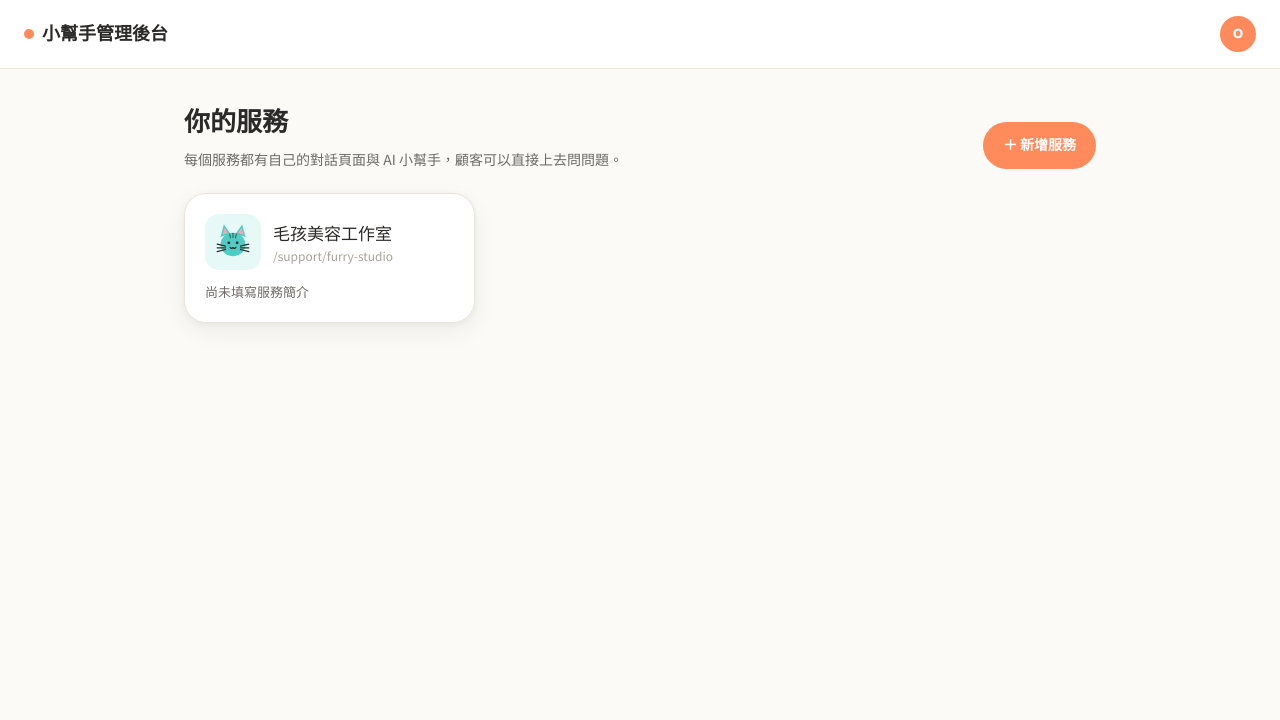
it: console: conversation history tab › shows an empty state when the business has no conversations yet
Click the text "毛孩美容工作室" at x=333, y=232, box [273,220,393,245]
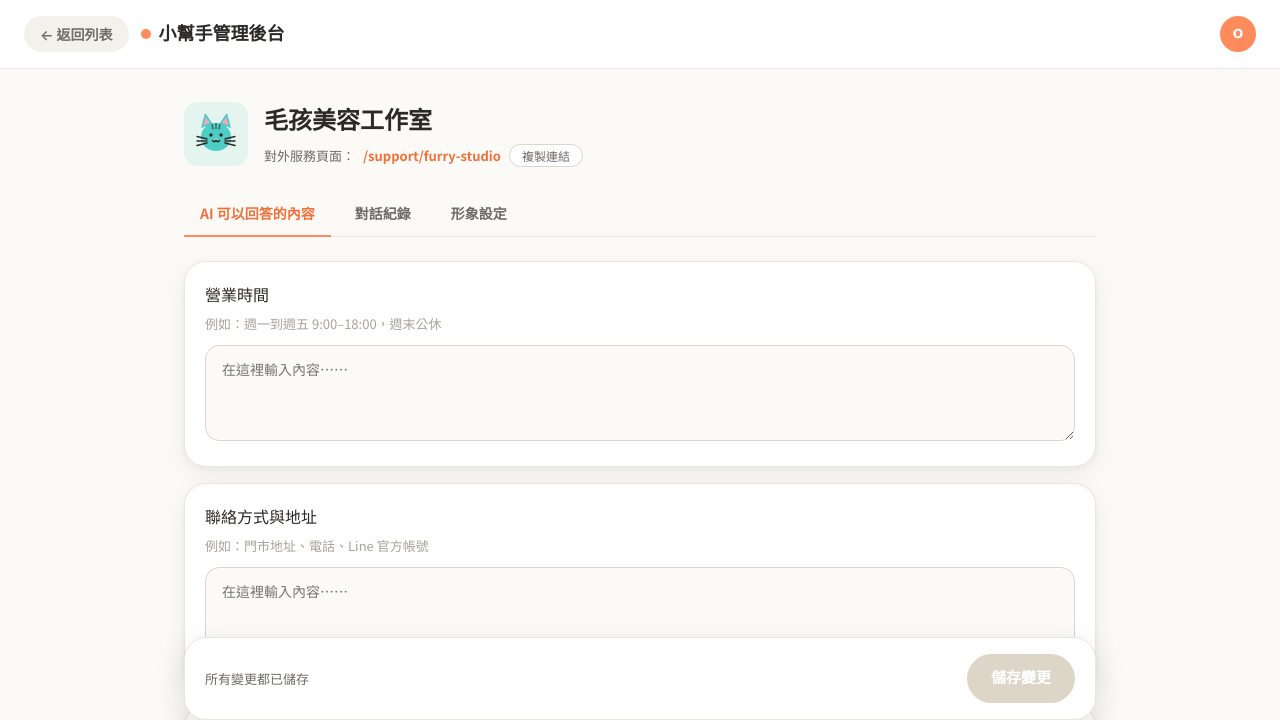
Expected: the heading "毛孩美容工作室" is shown, [264,103,432,142]
Click the button "對話紀錄" at x=383, y=214, box [339,191,427,237]
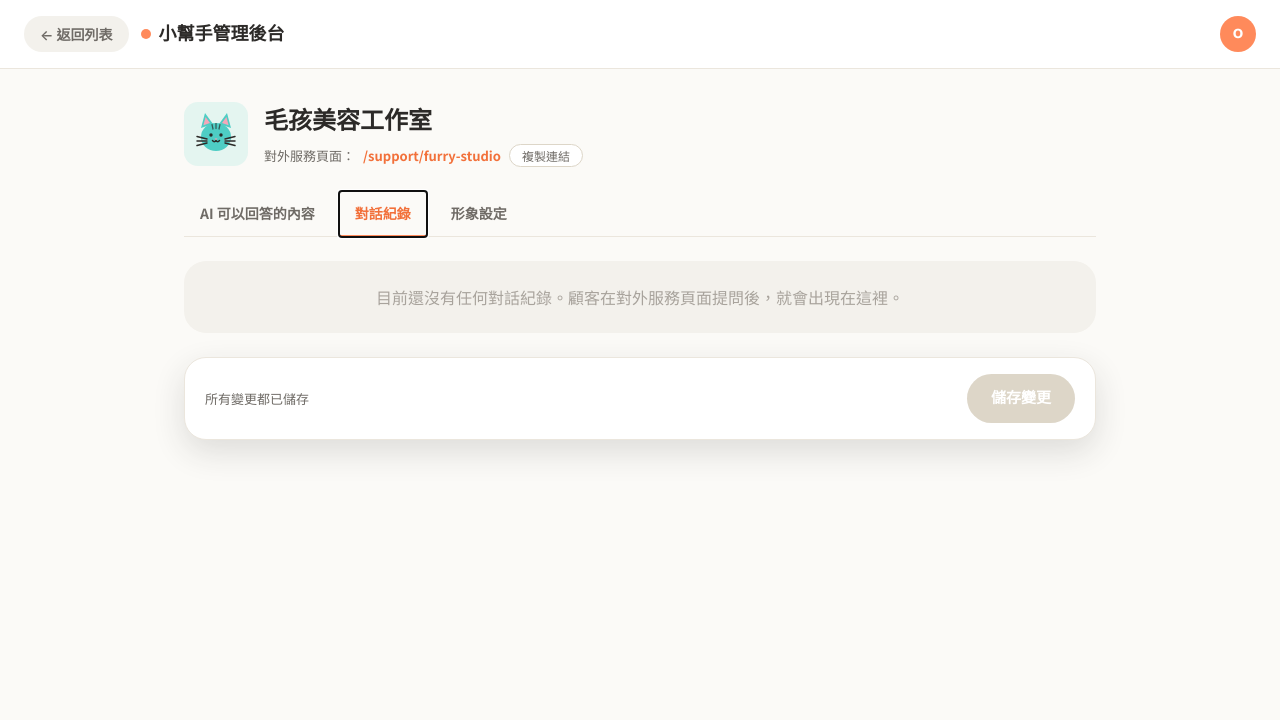
Result: the text "目前還沒有任何對話紀錄。顧客在對外服務頁面提問後，就會出現在這裡。" is shown at [184,261,1096,333]
